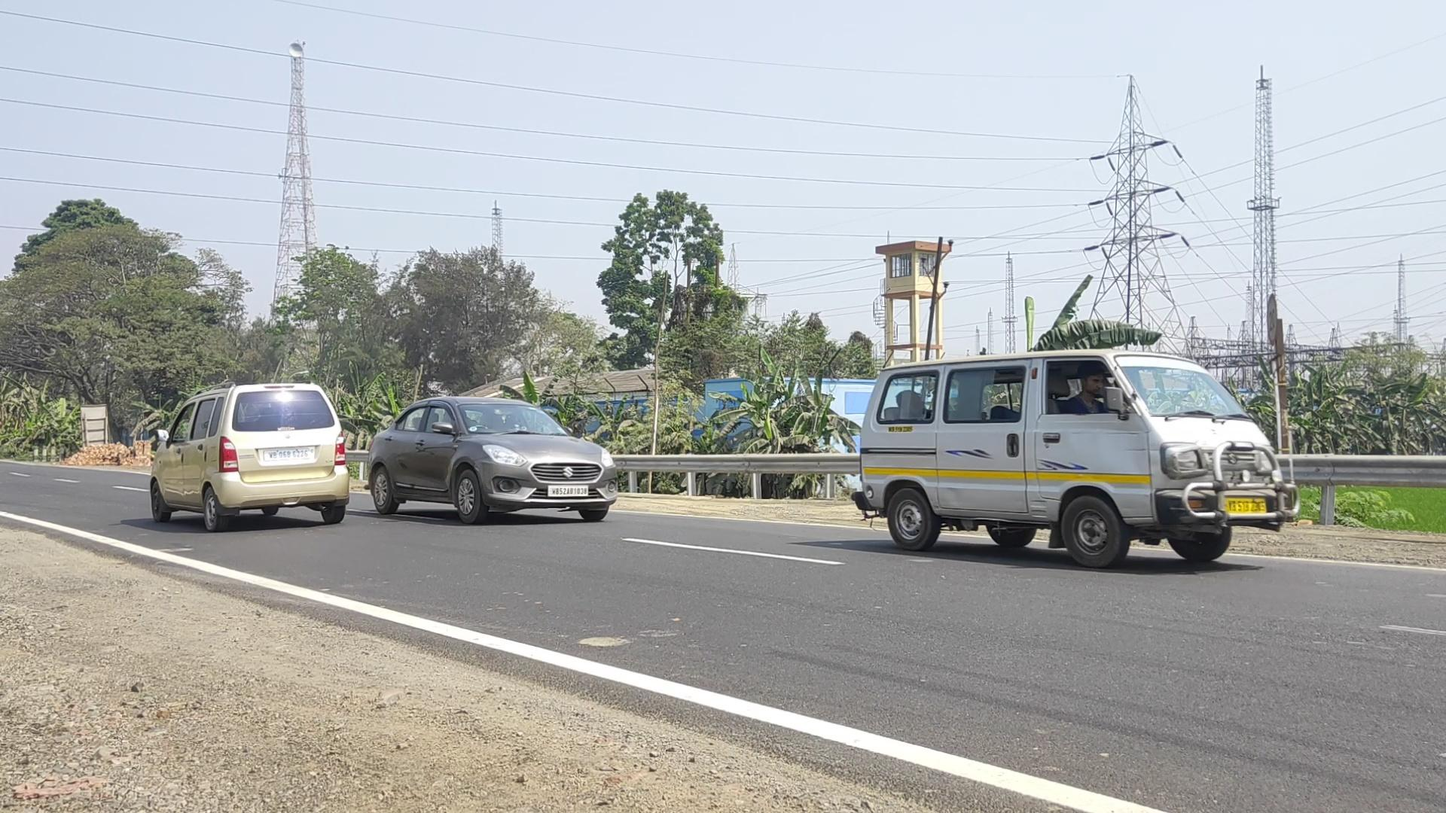car: (365, 396, 617, 524), (149, 381, 351, 532)
van: (851, 349, 1301, 569)
